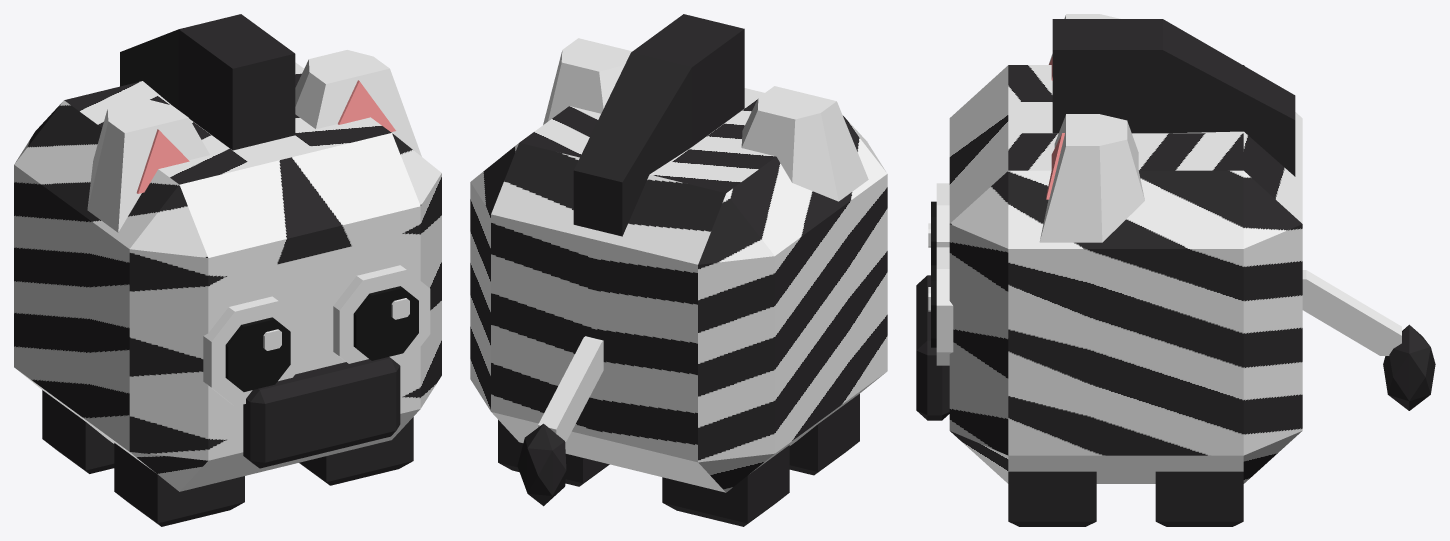
File: Zebra.fbx
3 views of the same model, side by side, from view 1: azimuth 30°, elevation 25°; view 2: azimuth 150°, elevation 25°; view 3: azimuth 270°, elevation 25° (orthographic). The views are drawn at different scales.
Parts seen in each view (by area): view 1: Zebra, Zebra_Mane, Zebra_Ears, Zebra_Muzzle, Zebra_Hooves, Zebra_Eyes, Zebra_Pupils, Zebra_EarInner; view 2: Zebra, Zebra_Mane, Zebra_Ears, Zebra_Hooves, Zebra_Tail, Zebra_Tuft; view 3: Zebra, Zebra_Mane, Zebra_Ears, Zebra_Hooves, Zebra_Tail, Zebra_Muzzle, Zebra_Tuft, Zebra_Eyes, Zebra_Pupils.
Boxes of the visible parts, box(x1,y1,x2,y2) form: Zebra: box(14, 62, 441, 491); Zebra_Mane: box(120, 14, 295, 150); Zebra_Ears: box(87, 50, 421, 232); Zebra_Muzzle: box(243, 357, 400, 468); Zebra_Hooves: box(42, 390, 413, 526); Zebra_Eyes: box(203, 265, 430, 406); Zebra_Pupils: box(225, 286, 418, 391); Zebra_EarInner: box(136, 80, 395, 193); Zebra: box(470, 88, 887, 492); Zebra_Mane: box(573, 14, 744, 236); Zebra_Ears: box(543, 38, 868, 201); Zebra_Hooves: box(498, 393, 859, 526); Zebra_Tail: box(538, 336, 603, 441); Zebra_Tuft: box(517, 423, 566, 506); Zebra: box(949, 65, 1302, 483); Zebra_Mane: box(1052, 19, 1295, 176); Zebra_Ears: box(1039, 14, 1144, 242); Zebra_Hooves: box(1008, 471, 1243, 526); Zebra_Tail: box(1302, 270, 1401, 355); Zebra_Muzzle: box(916, 275, 949, 420); Zebra_Tuft: box(1383, 324, 1435, 410); Zebra_Eyes: box(928, 183, 953, 365); Zebra_Pupils: box(931, 201, 936, 347).
Bounding box in the file's own units: 2 × 2.6 × 2.82.
Materials: 10 (1 with a texture image).
